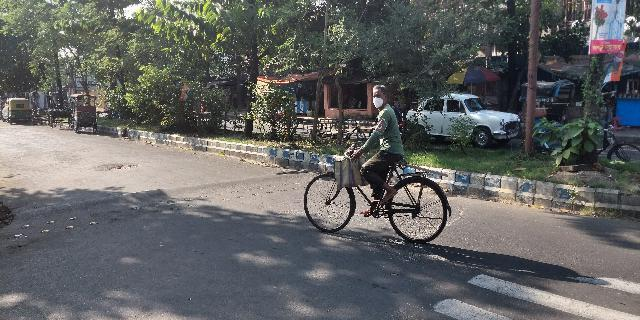Autorickshaw: (7, 94, 32, 126)
Cycle: (299, 81, 457, 247)
Rickshaw: (67, 89, 101, 139)
